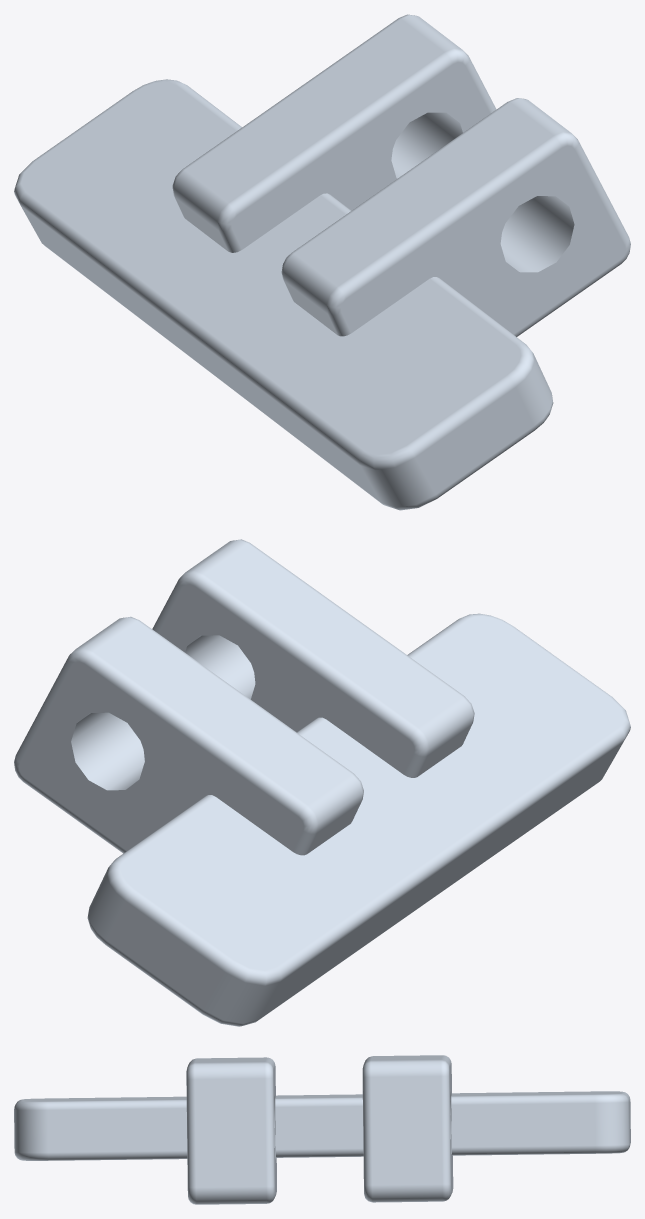
File: RB-030_viewer.glb
3 renders of one model, top to bottom at view 1: azimuth 30°, elevation 25°; view 2: azimuth 150°, elevation 25°; view 3: azimuth 270°, elevation 25°, orthographic. The views are drawn at different scales.
Visible parts, largest first — view 1: basebody_imported1; view 2: basebody_imported1; view 3: basebody_imported1.
Boxes of the visible parts, <box> form: basebody_imported1: <box>14,14,630,510</box>; basebody_imported1: <box>14,539,630,1026</box>; basebody_imported1: <box>14,1055,630,1204</box>.
Bounding box in the file's own units: 0.00983 × 0.00657 × 0.018.
